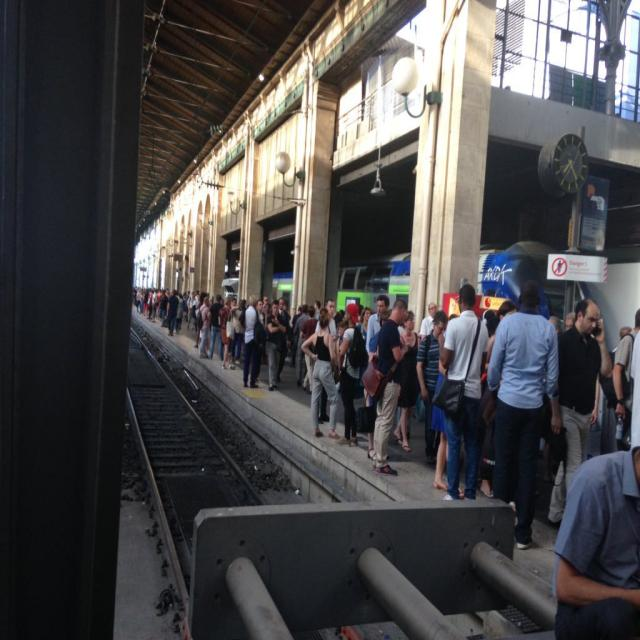body: (130, 281, 640, 481), (484, 277, 564, 555), (550, 442, 639, 639), (546, 297, 602, 531), (436, 280, 492, 502), (356, 297, 409, 479), (300, 308, 342, 441), (415, 310, 449, 467), (335, 303, 366, 447), (391, 309, 421, 455), (364, 293, 390, 407), (237, 293, 265, 390), (262, 298, 286, 394), (216, 296, 242, 371), (299, 305, 319, 394), (292, 303, 310, 387), (227, 297, 247, 365), (206, 292, 225, 362), (194, 296, 212, 360), (356, 305, 371, 381), (277, 296, 289, 382), (192, 291, 208, 349), (314, 298, 338, 336), (418, 301, 438, 341), (166, 288, 178, 337), (185, 291, 198, 330), (156, 290, 168, 328), (150, 288, 159, 324), (146, 287, 154, 321), (132, 287, 142, 314), (174, 290, 179, 299)
